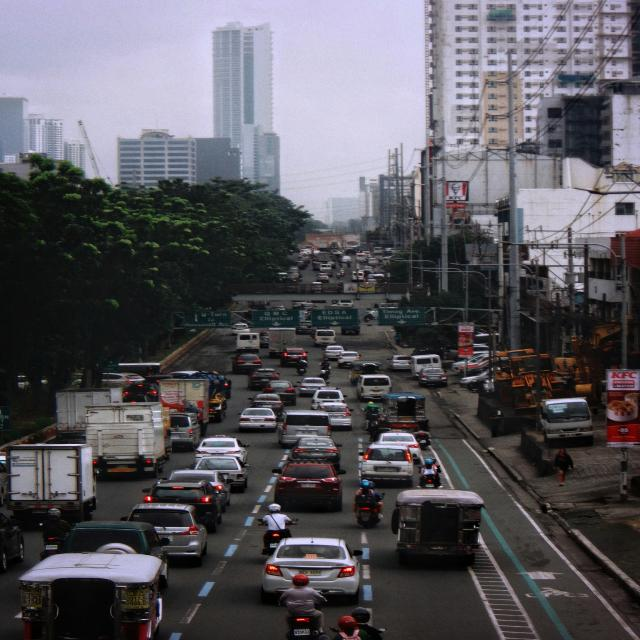Car: (62, 521, 169, 587), (261, 538, 362, 604), (121, 504, 206, 565), (143, 480, 221, 532), (273, 461, 344, 511), (168, 469, 230, 515), (541, 398, 593, 447), (361, 443, 413, 486), (195, 456, 249, 492), (278, 411, 330, 447), (170, 371, 232, 399), (289, 437, 341, 469), (195, 435, 249, 463), (376, 432, 423, 463), (0, 514, 24, 573), (170, 413, 200, 450), (356, 375, 392, 401), (319, 403, 352, 430), (248, 394, 283, 419), (239, 408, 277, 431), (263, 380, 296, 405), (411, 354, 442, 379), (350, 361, 382, 385), (452, 353, 489, 373), (123, 381, 158, 402), (311, 388, 344, 409), (248, 369, 279, 390), (102, 373, 145, 388), (118, 362, 162, 376), (232, 353, 261, 374), (459, 370, 489, 390), (418, 367, 447, 387), (452, 352, 488, 368), (209, 393, 227, 422), (299, 378, 326, 396), (281, 348, 307, 366), (236, 332, 259, 352), (467, 356, 489, 375), (0, 453, 7, 507), (314, 329, 335, 347), (218, 375, 232, 399), (338, 351, 359, 367), (314, 399, 344, 410), (389, 355, 411, 370), (324, 345, 344, 359), (145, 374, 172, 384), (341, 324, 361, 335), (232, 323, 250, 335), (296, 320, 311, 334), (169, 371, 198, 378), (412, 348, 437, 356), (362, 309, 377, 321), (473, 343, 489, 354), (248, 301, 267, 310), (259, 331, 269, 348), (16, 375, 29, 388), (473, 344, 488, 355), (328, 254, 339, 269), (474, 332, 490, 342), (285, 272, 301, 282), (356, 251, 370, 262), (370, 272, 385, 282), (320, 265, 332, 277), (362, 266, 373, 278), (299, 309, 310, 321), (300, 252, 310, 265), (317, 273, 330, 283), (0, 452, 6, 472), (352, 271, 364, 281), (338, 300, 353, 308), (302, 302, 316, 310), (292, 301, 306, 309), (321, 260, 334, 268), (384, 248, 395, 257), (296, 260, 307, 269), (378, 303, 397, 308), (373, 247, 383, 256), (288, 265, 298, 274), (381, 256, 391, 265), (278, 272, 287, 281), (341, 256, 351, 264), (368, 258, 379, 265), (300, 248, 311, 255), (364, 279, 375, 286), (270, 305, 285, 310), (311, 327, 317, 338), (312, 248, 320, 256), (331, 300, 339, 307)
